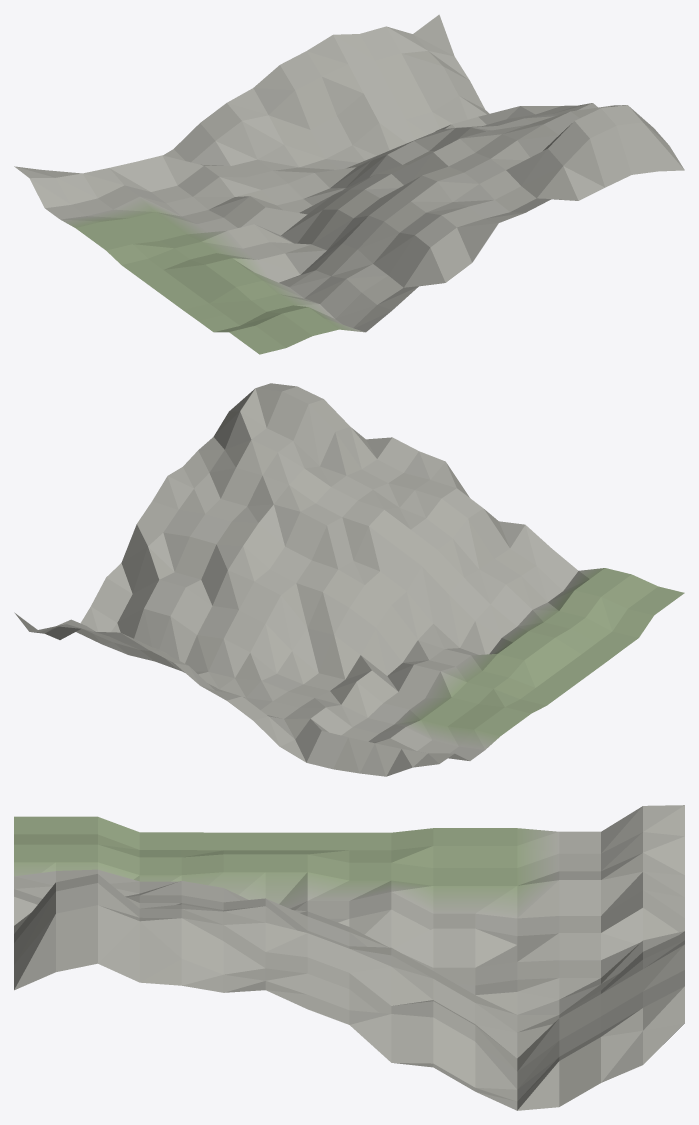
The picture shows the model from 3 angles, top to bottom: view 1: azimuth 30°, elevation 25°; view 2: azimuth 150°, elevation 25°; view 3: azimuth 270°, elevation 25°; orthographic projection. The views are drawn at different scales.
Bounding box in the file's own units: 32 × 11.24 × 32.
